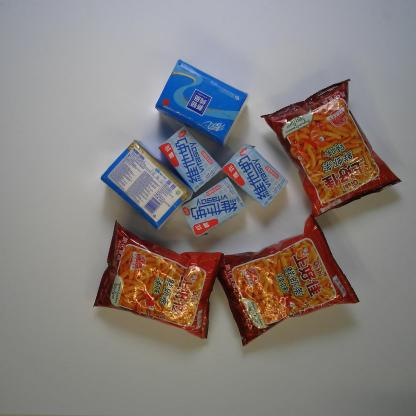Milk: (219, 142, 291, 212), (157, 123, 224, 194), (177, 176, 248, 238)
Puffed Food: (205, 213, 362, 348), (257, 77, 403, 219), (90, 219, 227, 342)
Tissue: (99, 139, 193, 231), (153, 59, 250, 145)
